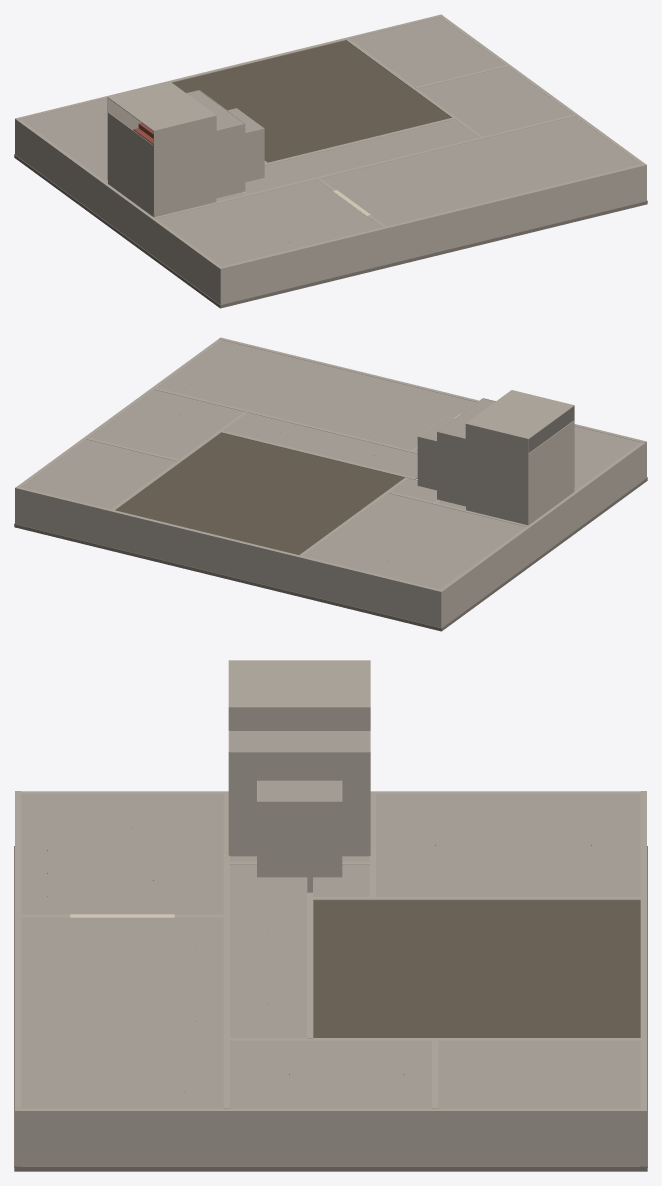
The picture shows the model from 3 angles, top to bottom: view 1: azimuth 30°, elevation 25°; view 2: azimuth 150°, elevation 25°; view 3: azimuth 270°, elevation 25°; orthographic projection. The views are drawn at different scales.
Visible parts, largest first — view 1: sm_techo, sm_tierra, sm_muro_h0_0, sm_escalera_arriba, sm_muro_v0_0, sm_muro_h0_0_lam, sm_muro_h300_0, sm_muro_h100_0, sm_escalera_arriba_techo, sm_muro_v360_0, sm_muro_h0_0_rod, sm_muro_v0_0_lam (+3 smaller); view 2: sm_techo, sm_tierra, sm_muro_h300_0, sm_escalera_arriba, sm_muro_v0_0, sm_muro_h300_0_lam, sm_muro_h0_0, sm_escalera_arriba_techo, sm_muro_v360_0, sm_muro_h100_0, sm_muro_h300_0_rod, sm_muro_h140_80 (+4 smaller); view 3: sm_techo, sm_tierra, sm_muro_v360_0, sm_escalera_arriba, sm_escalera_arriba_techo, sm_muro_v360_0_lam, sm_muro_h0_0, sm_muro_h300_0, sm_muro_h100_0, sm_muro_v0_0, sm_muro_v120_140, sm_muro_v360_0_rod (+2 smaller).
Part boxes in pixels (x1,y1,x2,y2): sm_techo: (21, 17, 640, 266); sm_tierra: (172, 40, 451, 162); sm_muro_h0_0: (218, 163, 646, 304); sm_escalera_arriba: (107, 82, 264, 213); sm_muro_v0_0: (17, 119, 221, 302); sm_muro_h0_0_lam: (218, 202, 647, 308); sm_muro_h300_0: (15, 14, 442, 155); sm_muro_h100_0: (154, 114, 575, 218); sm_escalera_arriba_techo: (187, 90, 263, 132); sm_muro_v360_0: (440, 16, 644, 164); sm_muro_h0_0_rod: (217, 200, 647, 305); sm_muro_v0_0_lam: (16, 157, 217, 306); sm_techo: (21, 340, 640, 589); sm_tierra: (115, 433, 404, 554); sm_muro_h300_0: (15, 486, 443, 627); sm_escalera_arriba: (417, 390, 574, 521); sm_muro_v0_0: (440, 442, 644, 625); sm_muro_h300_0_lam: (14, 525, 443, 631); sm_muro_h0_0: (219, 337, 646, 478); sm_escalera_arriba_techo: (419, 398, 494, 440); sm_muro_v360_0: (17, 339, 221, 487); sm_muro_h100_0: (154, 388, 575, 491); sm_muro_h300_0_rod: (14, 523, 444, 628); sm_muro_h140_80: (221, 431, 416, 479); sm_techo: (21, 794, 640, 1108); sm_tierra: (313, 900, 640, 1037); sm_muro_v360_0: (21, 1108, 640, 1166); sm_escalera_arriba: (228, 660, 370, 877); sm_escalera_arriba_techo: (230, 731, 369, 801); sm_muro_v360_0_lam: (22, 1167, 639, 1171); sm_muro_h0_0: (15, 791, 21, 1166); sm_muro_h300_0: (640, 791, 646, 1166); sm_muro_h100_0: (223, 793, 229, 1108); sm_muro_v0_0: (21, 791, 640, 793); sm_muro_v120_140: (313, 897, 640, 900); sm_muro_v360_0_rod: (22, 1166, 639, 1167).
Bounding box in the file's own units: 36.4 × 10.57 × 30.4.
